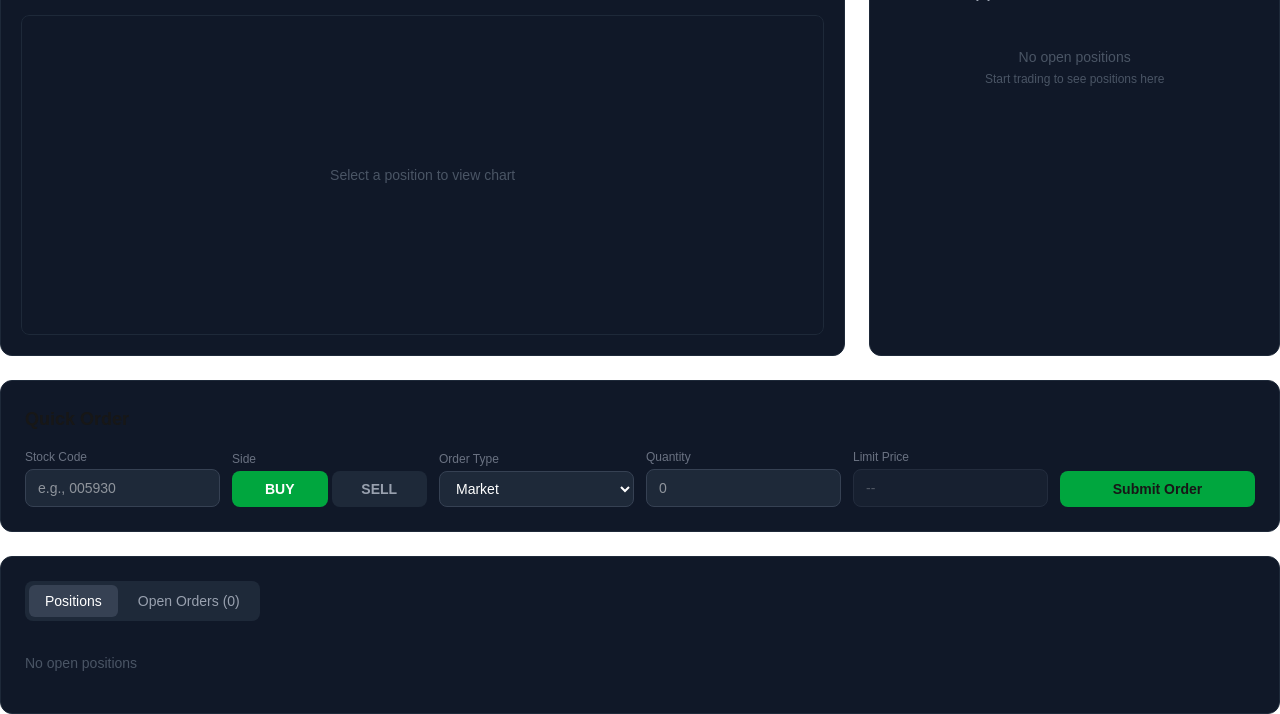
TradingPage › shows success message after order
(page scrolled)
In the field labelled "Stock Code": (122, 488) [25,469,220,507], type "005930"
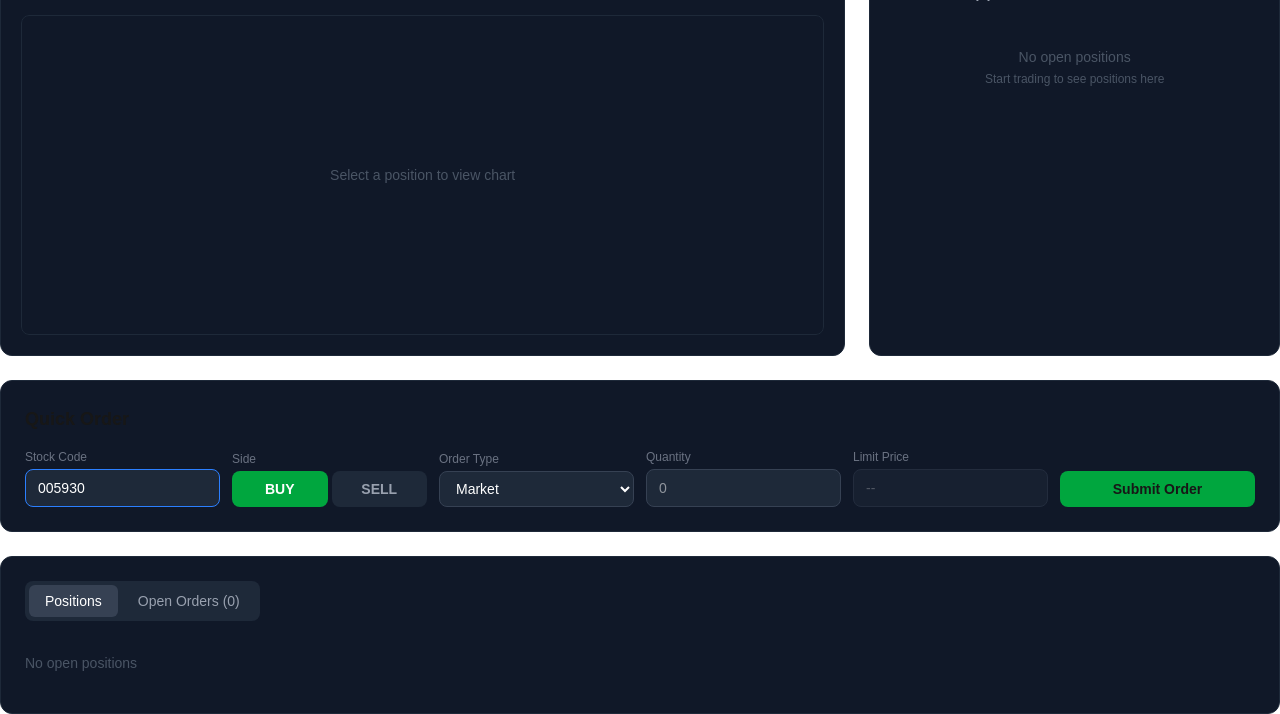
In the number field labelled "Quantity": (744, 488) [646,469,841,507], type "10"
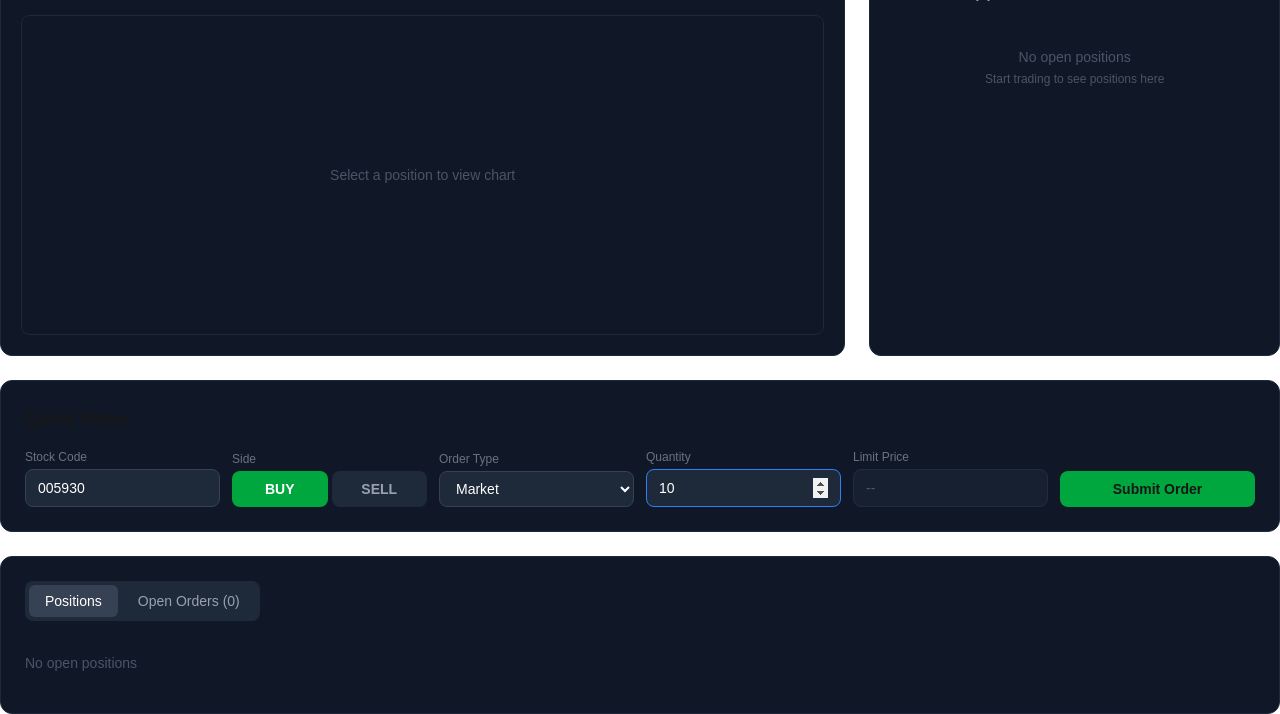
Click the button "Submit Order": (1158, 489) [1060,471,1255,507]
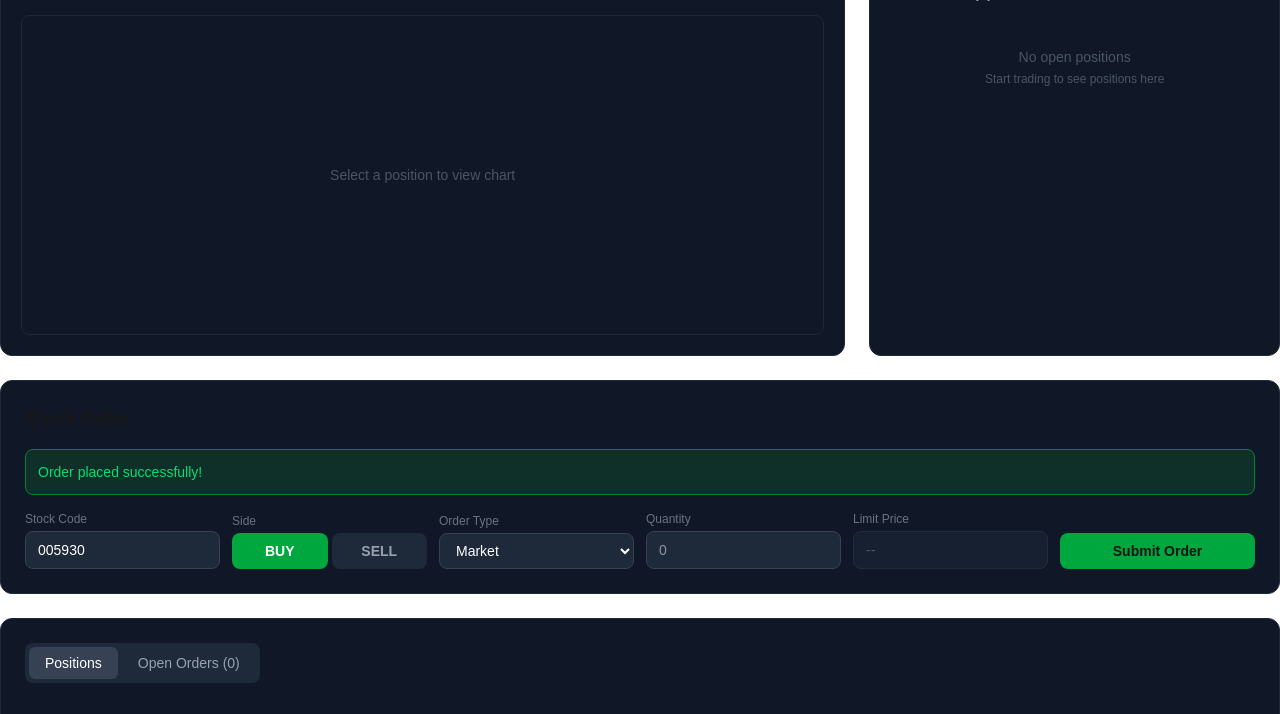
Expected: the text "Order placed successfully!" is shown, [25,449,1255,495]
